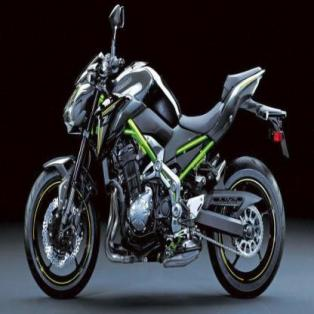Motocicleta: (17, 0, 292, 300)
